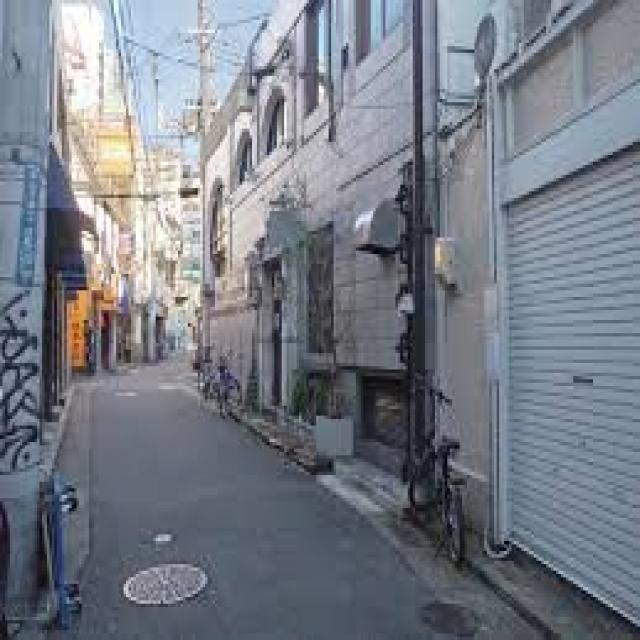manhole: (122, 561, 209, 606)
